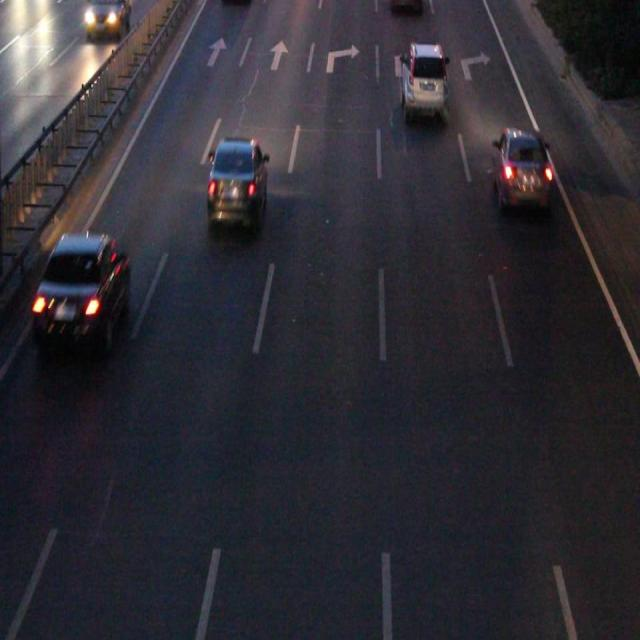car: (37, 234, 129, 344), (208, 139, 266, 225), (489, 132, 547, 205), (400, 43, 448, 119)
